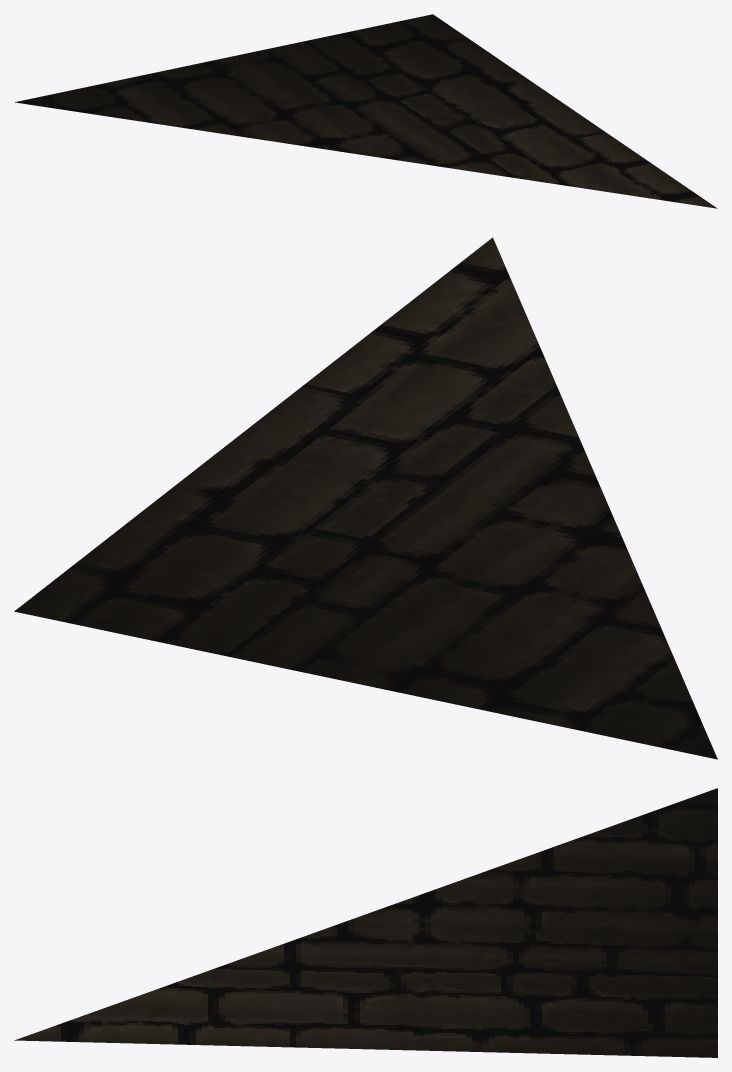
Rendered from demo_scene_fail.glb.
3 renders of one model, top to bottom at view 1: azimuth 30°, elevation 25°; view 2: azimuth 150°, elevation 25°; view 3: azimuth 270°, elevation 25°, orthographic. The views are drawn at different scales.
Parts seen in each view (by area): view 1: Exit room; view 2: Exit room; view 3: Exit room.
Boxes of the visible parts, box(x1,y1,x2,y2) form: Exit room: box(15, 14, 717, 208); Exit room: box(14, 237, 717, 759); Exit room: box(14, 788, 717, 1057).
Bounding box in the file's own units: 3.33 × 0.1073 × 3.93.
Materials: 1 (1 with a texture image).
